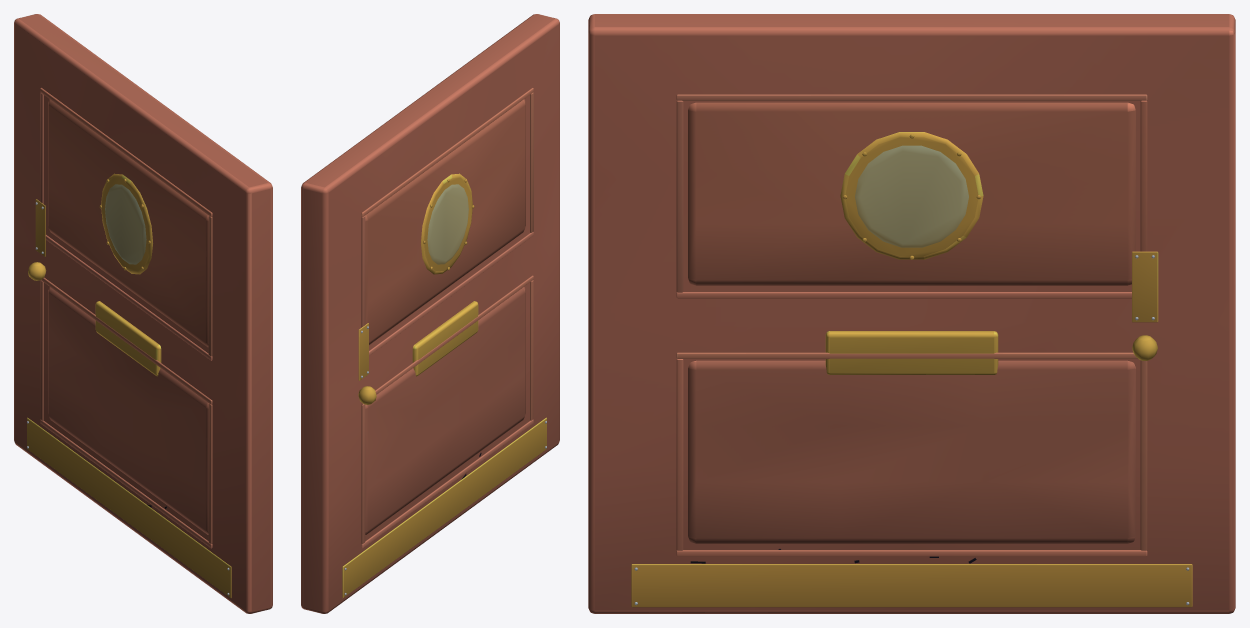
The model's file is SM_Door_Office_Panel.fbx.
3 renders of one model, left to right at view 1: azimuth 30°, elevation 25°; view 2: azimuth 150°, elevation 25°; view 3: azimuth 270°, elevation 25°, orthographic. The views are drawn at different scales.
Visible parts, largest first — view 1: SM_Door_Office_Panel; view 2: SM_Door_Office_Panel; view 3: SM_Door_Office_Panel.
Boxes of the visible parts, bbox=[...] form: SM_Door_Office_Panel: bbox=[14, 14, 272, 613]; SM_Door_Office_Panel: bbox=[301, 14, 559, 613]; SM_Door_Office_Panel: bbox=[588, 14, 1235, 613].
Bounding box in the file's own units: 43.49 × 300 × 300.
